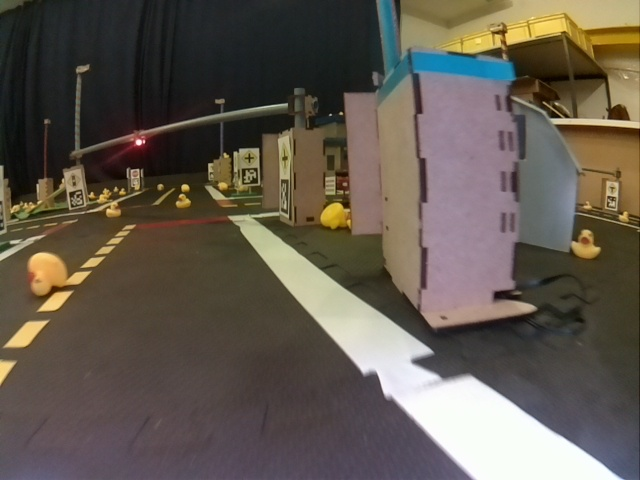Duckie: (27, 253, 65, 293), (571, 232, 599, 260), (321, 205, 350, 229), (106, 202, 121, 216), (615, 211, 627, 224), (178, 194, 189, 206), (181, 184, 190, 193)
Intersection sign: (278, 139, 291, 178), (240, 150, 258, 166)
QR code: (279, 180, 289, 217), (241, 169, 260, 185), (69, 189, 84, 208)
Signal sign: (67, 169, 82, 187)
Traffic light: (135, 137, 145, 147)
